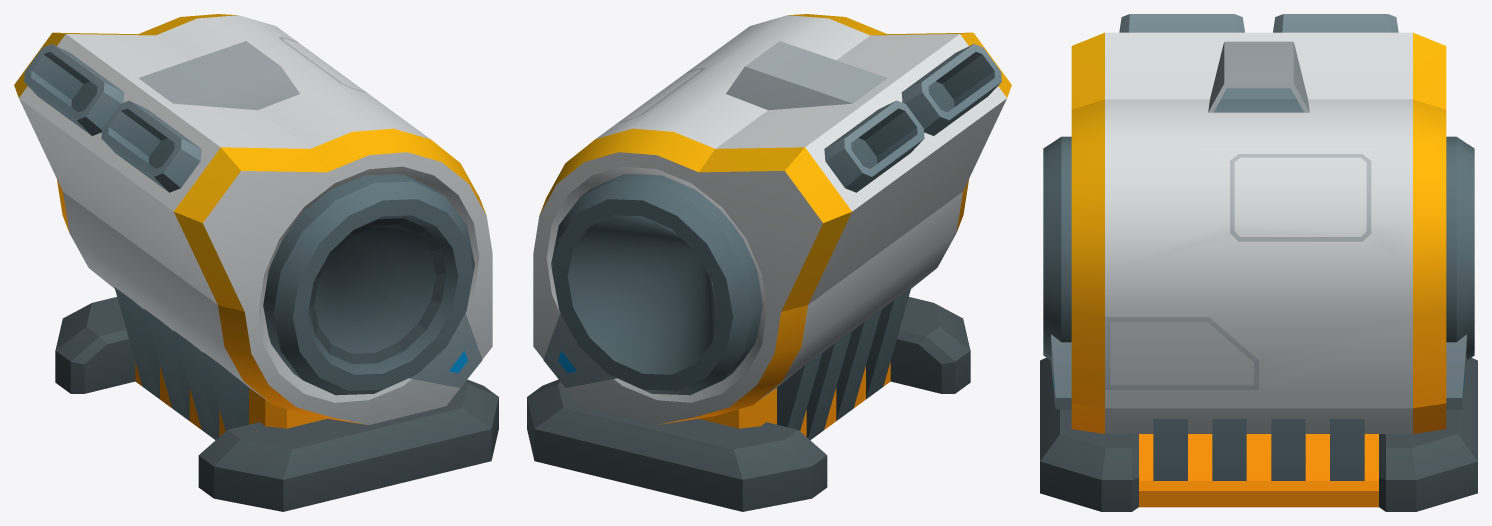
File: Generator_008.fbx
3 views of the same model, side by side, from view 1: azimuth 30°, elevation 25°; view 2: azimuth 150°, elevation 25°; view 3: azimuth 270°, elevation 25° (orthographic).
Visible parts, largest first — view 1: Generator_008; view 2: Generator_008; view 3: Generator_008.
Boxes of the visible parts, left/top/right/bottom form: Generator_008: left=14, top=14, right=498, bottom=511; Generator_008: left=527, top=14, right=1011, bottom=511; Generator_008: left=1040, top=14, right=1477, bottom=511.
Size of the model in its own units: 176 by 203 by 180.
